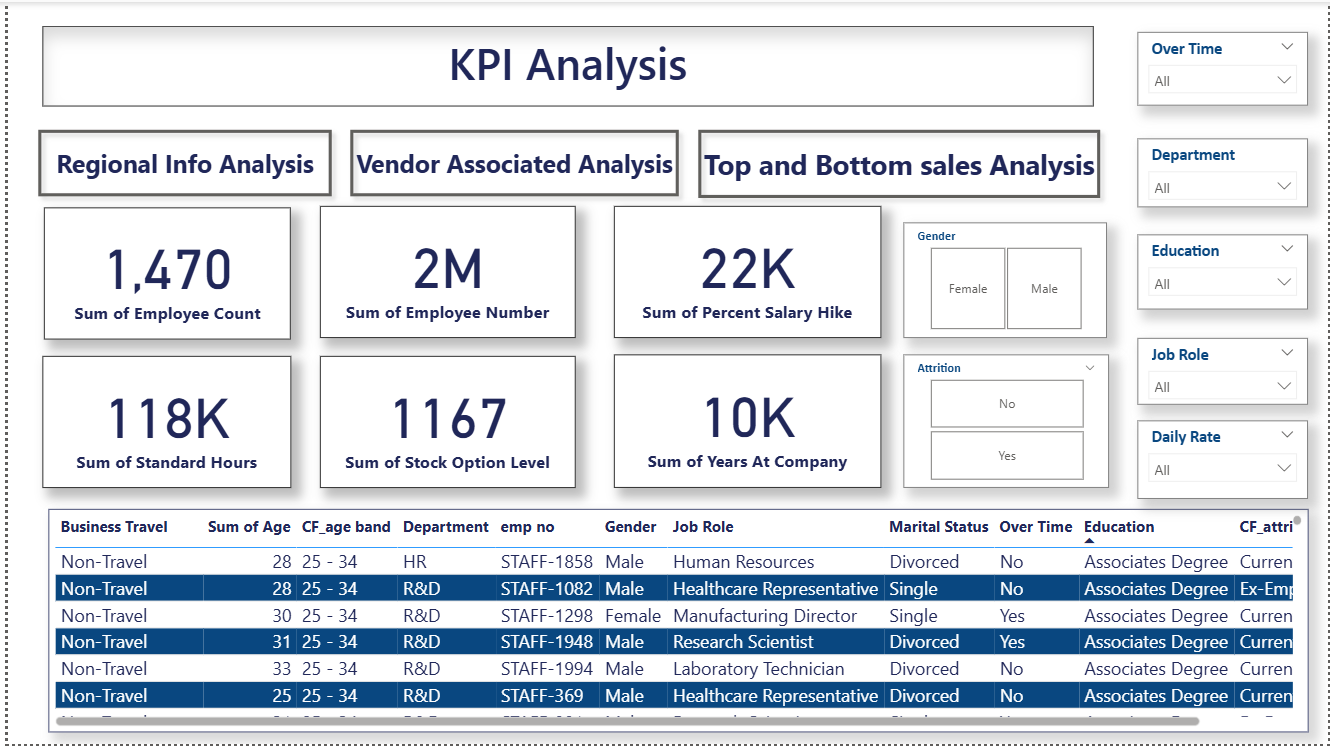

What the dashboard file says about the page in this screenshot:
{"tool":"powerbi","page":{"name":"KPI dashboard","canvas":[1280,720],"ordinal":0},"visuals":[{"type":"actionButton","box":[21,115,302.8,82.6],"z":0},{"type":"actionButton","box":[323.8,115,336.8,82.6],"z":1000},{"type":"actionButton","box":[660.6,115,408,84.2],"z":2000},{"type":"textbox","box":[34,22.7,1020.1,77.7],"z":3000},{"type":"card","fields":{"Values":["Sum(Table1.Employee Count)"]},"box":[35.6,199.2,239.6,127.9],"z":4000},{"type":"card","fields":{"Values":["Sum(Table1.Employee Number)"]},"box":[302.8,197.5,247.7,127.9],"z":5000},{"type":"card","fields":{"Values":["Sum(Table1.Percent Salary Hike)"]},"box":[587.8,197.5,259.1,127.9],"z":6000},{"type":"card","fields":{"Values":["Sum(Table1.Standard Hours)"]},"box":[34,343.3,241.3,127.9],"z":7000},{"type":"card","fields":{"Values":["Sum(Table1.Stock Option Level)"]},"box":[302.8,343.3,247.7,127.9],"z":8000},{"type":"card","fields":{"Values":["Sum(Table1.Years At Company)"]},"box":[587.8,341.7,259.1,129.5],"z":9000},{"type":"tableEx","fields":{"Values":["Table1.Business Travel","Sum(Table1.Age)","Table1.CF_age band","Table1.Department","Table1.emp no","Table1.Gender","Table1.Job Role","Table1.Marital Status","Table1.Over Time","Table1.Education","Table1.CF_attrition label"]},"box":[38.9,492.2,1222.5,217],"z":11000},{"type":"slicer","fields":{"Values":["Table1.Department"]},"box":[1096.2,132.8,165.2,66.4],"z":12000},{"type":"slicer","fields":{"Values":["Table1.Education"]},"box":[1096.2,225.1,165.2,72.9],"z":13000},{"type":"slicer","fields":{"Values":["Table1.Job Role"]},"box":[1096.2,325.5,165.2,64.8],"z":14000},{"type":"slicer","fields":{"Values":["Table1.Daily Rate"]},"box":[1096.2,406.4,165.2,76.1],"z":15000},{"type":"slicer","fields":{"Values":["Table1.Gender"]},"box":[869.5,213.7,197.5,111.7],"z":16000},{"type":"slicer","fields":{"Values":["Table1.Attrition"]},"box":[869.5,341.7,199.2,129.5],"z":17000},{"type":"slicer","fields":{"Values":["Table1.Over Time"]},"box":[1096.2,29.1,165.2,71.2],"z":18000}]}

Visuals, with their boxes in screenshot pixels (x1, y1, x2, y2), scaled from the page's 1280x720 canvas onto the 1330x746 screenshot:
actionButton: {"left": 22, "top": 119, "right": 336, "bottom": 205}
actionButton: {"left": 336, "top": 119, "right": 686, "bottom": 205}
actionButton: {"left": 686, "top": 119, "right": 1110, "bottom": 206}
textbox: {"left": 35, "top": 24, "right": 1095, "bottom": 104}
card - Sum(Table1.Employee Count): {"left": 37, "top": 206, "right": 286, "bottom": 339}
card - Sum(Table1.Employee Number): {"left": 315, "top": 205, "right": 572, "bottom": 337}
card - Sum(Table1.Percent Salary Hike): {"left": 611, "top": 205, "right": 880, "bottom": 337}
card - Sum(Table1.Standard Hours): {"left": 35, "top": 356, "right": 286, "bottom": 488}
card - Sum(Table1.Stock Option Level): {"left": 315, "top": 356, "right": 572, "bottom": 488}
card - Sum(Table1.Years At Company): {"left": 611, "top": 354, "right": 880, "bottom": 488}
tableEx - Table1.Business Travel x Sum(Table1.Age): {"left": 40, "top": 510, "right": 1311, "bottom": 735}
slicer - Table1.Department: {"left": 1139, "top": 138, "right": 1311, "bottom": 206}
slicer - Table1.Education: {"left": 1139, "top": 233, "right": 1311, "bottom": 309}
slicer - Table1.Job Role: {"left": 1139, "top": 337, "right": 1311, "bottom": 404}
slicer - Table1.Daily Rate: {"left": 1139, "top": 421, "right": 1311, "bottom": 500}
slicer - Table1.Gender: {"left": 903, "top": 221, "right": 1109, "bottom": 337}
slicer - Table1.Attrition: {"left": 903, "top": 354, "right": 1110, "bottom": 488}
slicer - Table1.Over Time: {"left": 1139, "top": 30, "right": 1311, "bottom": 104}
